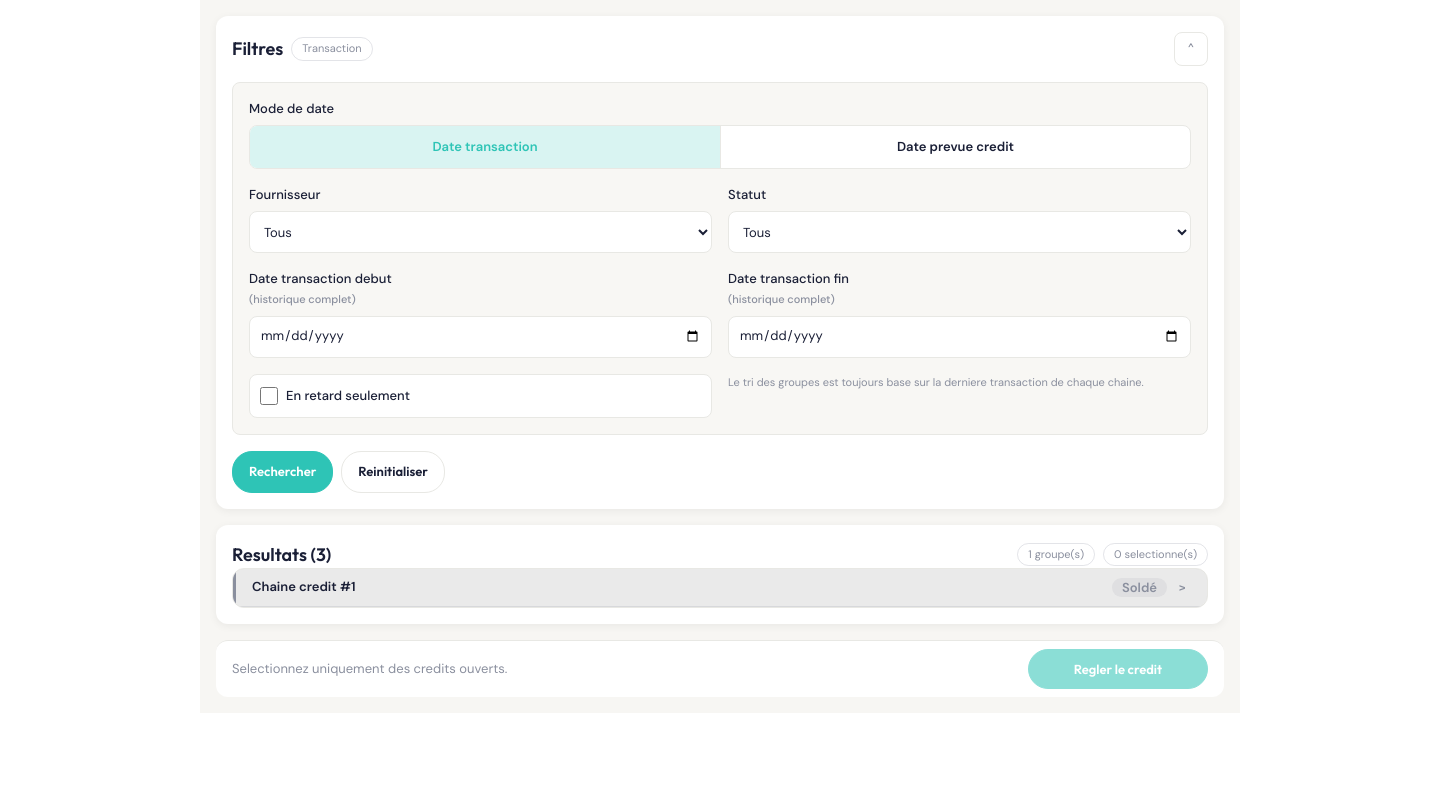
Test: PaymentsSearch credit chains › collapses settled chains by default and lets user expand
Step 1. Click the button "Chaine credit #1 Soldé v" → (301, 587), box [233,570,1207,607]
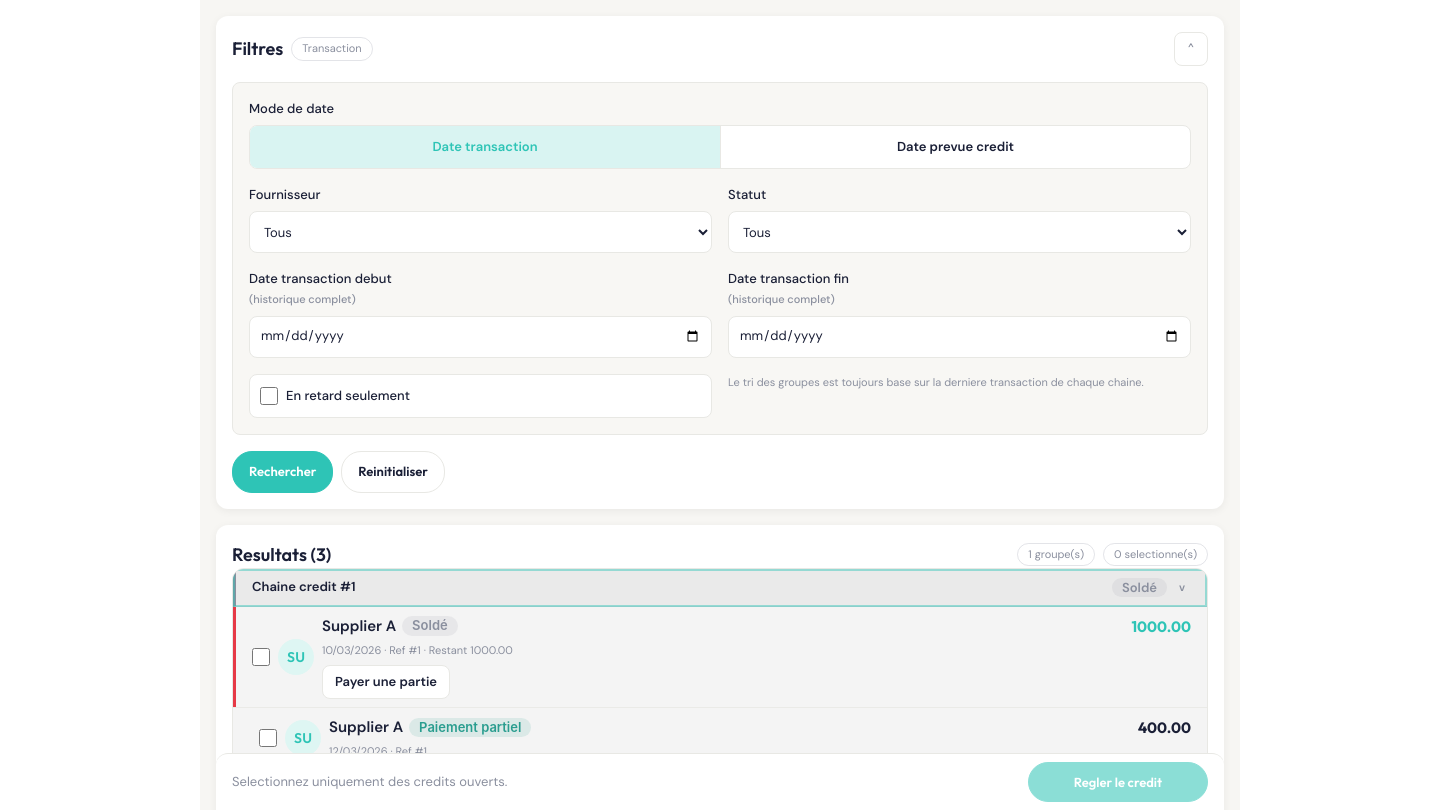
Now the text "Paiement partiel" is shown, box [409,718,531,737]
